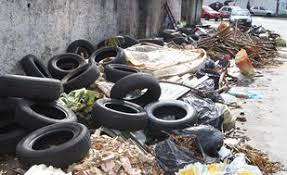tire: (14, 123, 91, 170), (18, 98, 82, 131), (142, 99, 198, 134), (89, 99, 149, 130), (111, 77, 163, 110), (1, 74, 62, 100), (59, 63, 100, 89), (44, 53, 90, 74), (23, 55, 55, 83), (105, 65, 148, 83), (89, 48, 126, 67)
